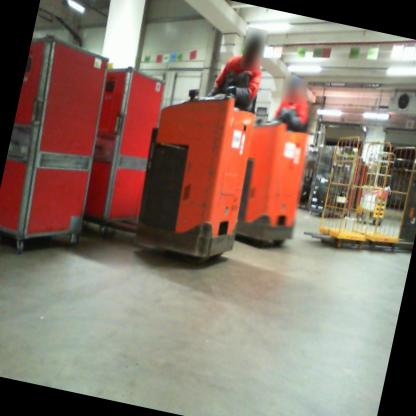pallet_truck: (65, 49, 270, 274), (214, 97, 318, 274), (299, 119, 416, 264)
